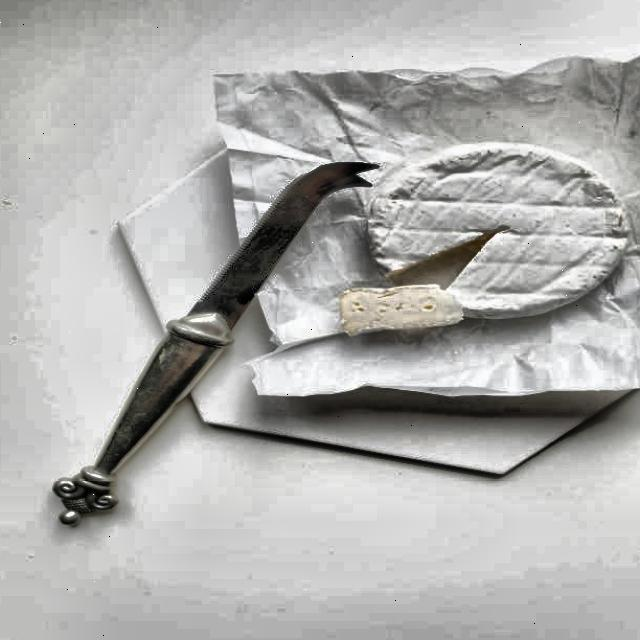knife: (46, 160, 378, 506)
